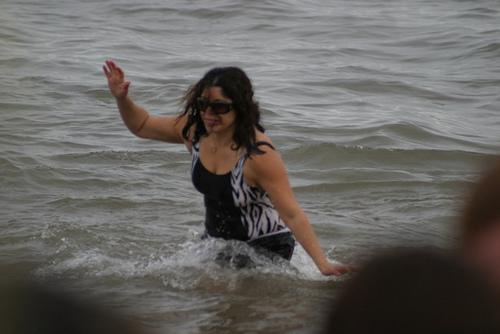human: (100, 50, 360, 278)
